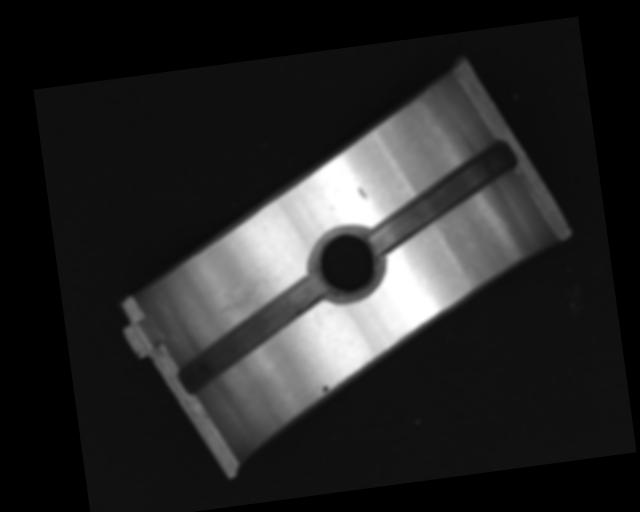blot: (319, 384, 330, 395)
bruise: (357, 185, 368, 201)
gap: (359, 137, 525, 254), (170, 273, 334, 390)
hole: (307, 219, 385, 304)
scratch: (202, 263, 276, 336)
